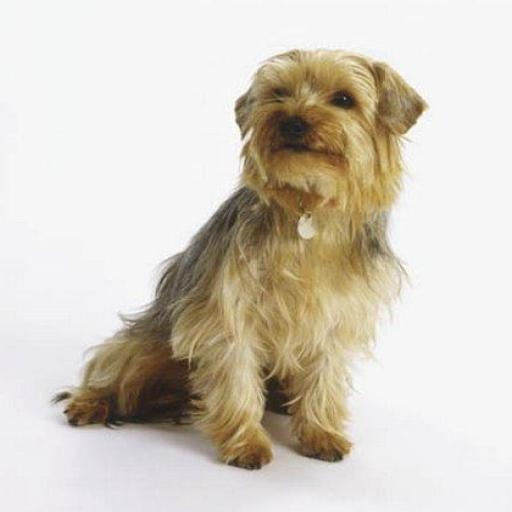dog_face: (227, 47, 414, 186)
